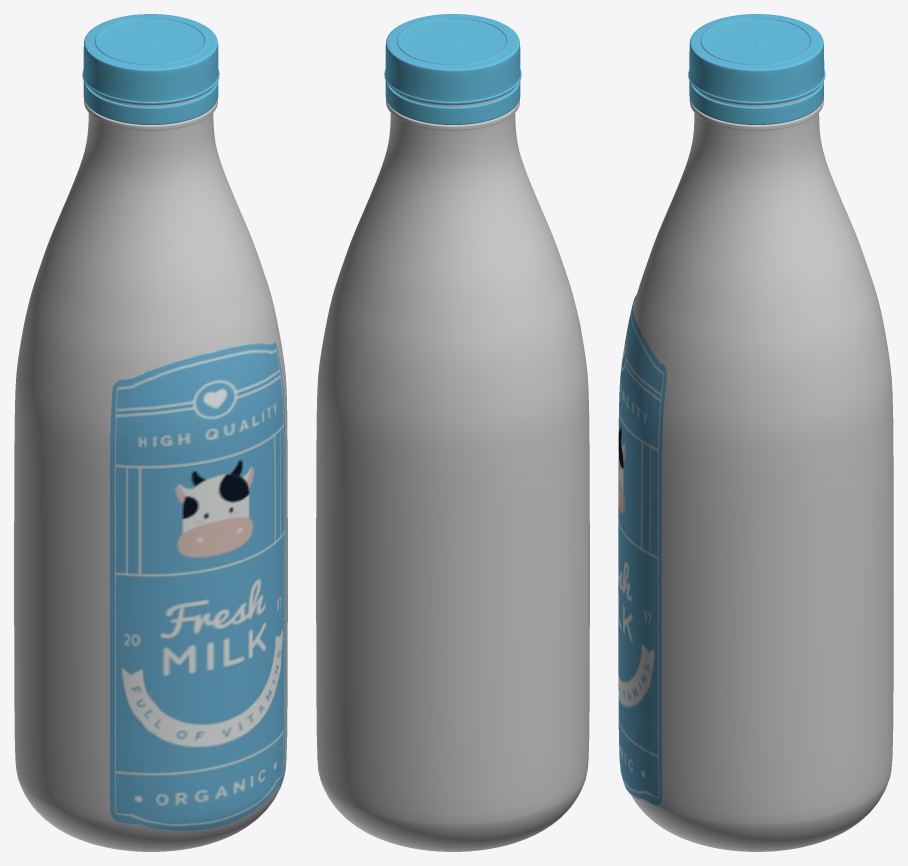
3 views of the same model, side by side, from view 1: azimuth 30°, elevation 25°; view 2: azimuth 150°, elevation 25°; view 3: azimuth 270°, elevation 25° (orthographic).
Parts seen in each view (by area): view 1: Organic Fresh Milk Bottle 1L_3, Label_1, Cap_0; view 2: Organic Fresh Milk Bottle 1L_3, Cap_0; view 3: Organic Fresh Milk Bottle 1L_3, Label_1, Cap_0.
Boxes of the visible parts, bbox=[...] form: Organic Fresh Milk Bottle 1L_3: bbox=[14, 89, 287, 851]; Label_1: bbox=[110, 341, 285, 830]; Cap_0: bbox=[82, 14, 219, 124]; Organic Fresh Milk Bottle 1L_3: bbox=[316, 89, 589, 851]; Cap_0: bbox=[384, 14, 521, 124]; Organic Fresh Milk Bottle 1L_3: bbox=[630, 89, 893, 851]; Label_1: bbox=[618, 294, 666, 805]; Cap_0: bbox=[688, 14, 825, 124].
Size of the model in its own units: 0.0832 by 0.2603 by 0.0837.
Materials: 4 (1 with a texture image).
